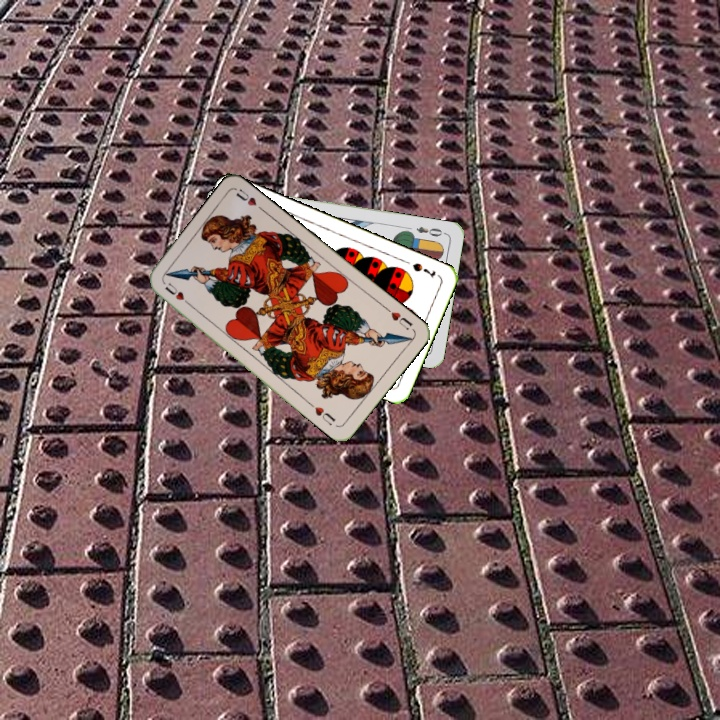EO: (412, 222, 448, 239)
HU: (161, 279, 194, 309), (381, 303, 415, 332)
S7: (408, 259, 438, 280)
